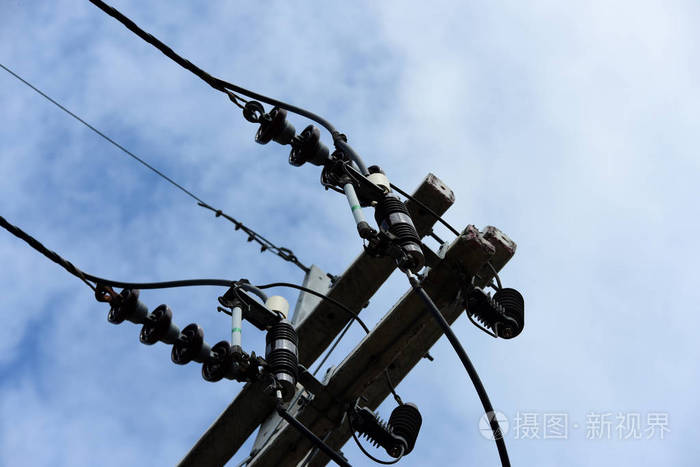insulator: (105, 285, 203, 367), (251, 102, 323, 167)
